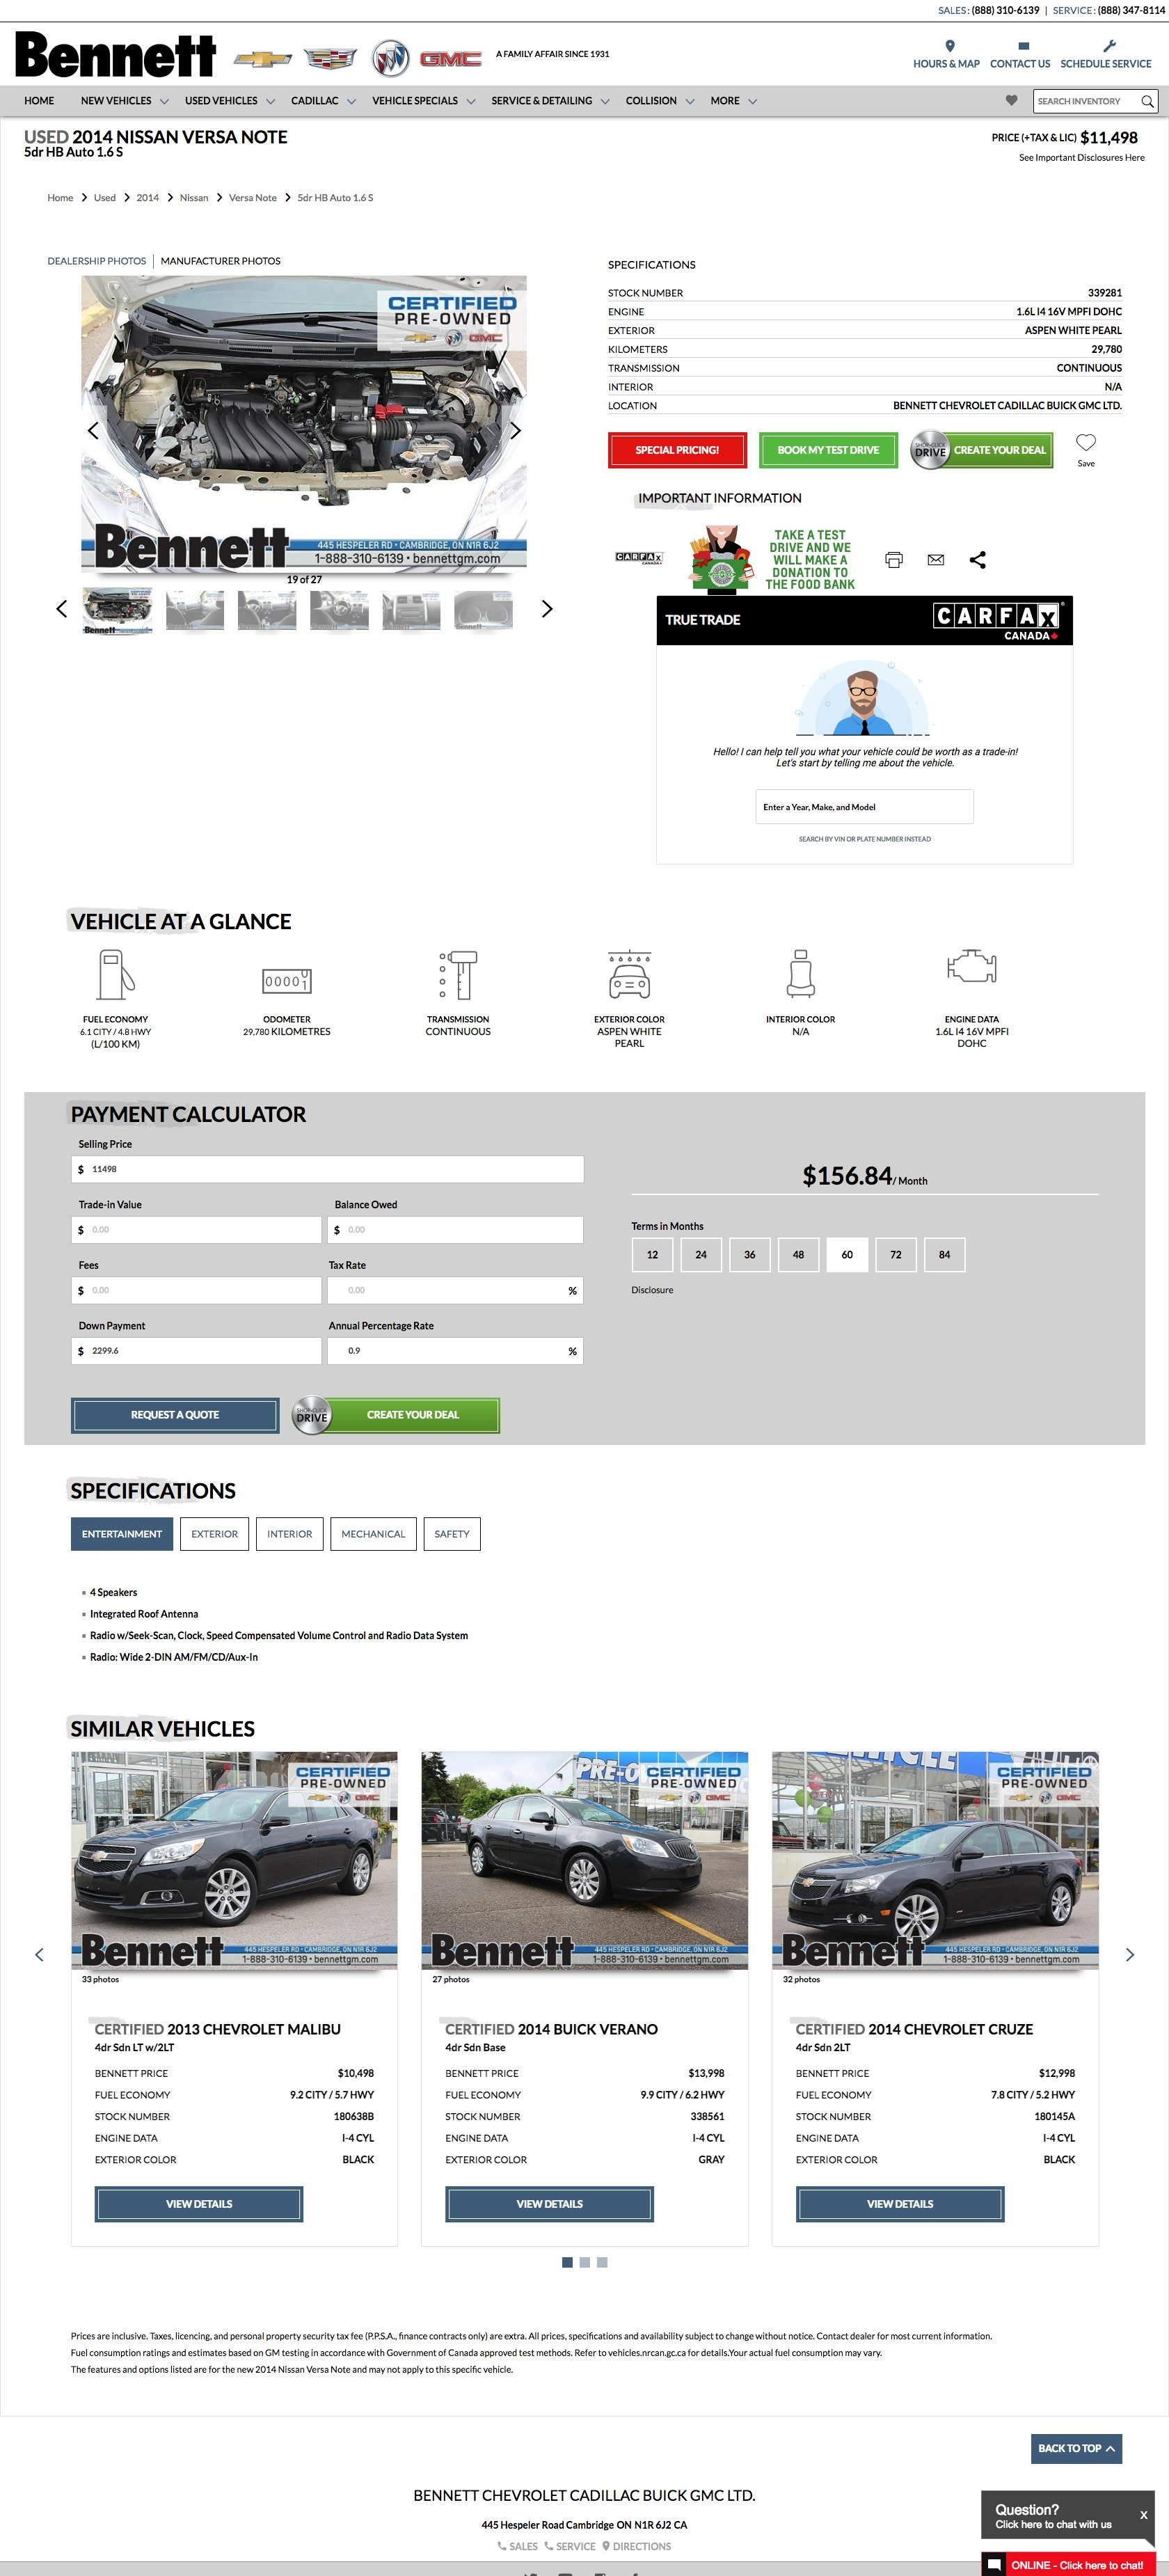car: (543, 601, 553, 616)
